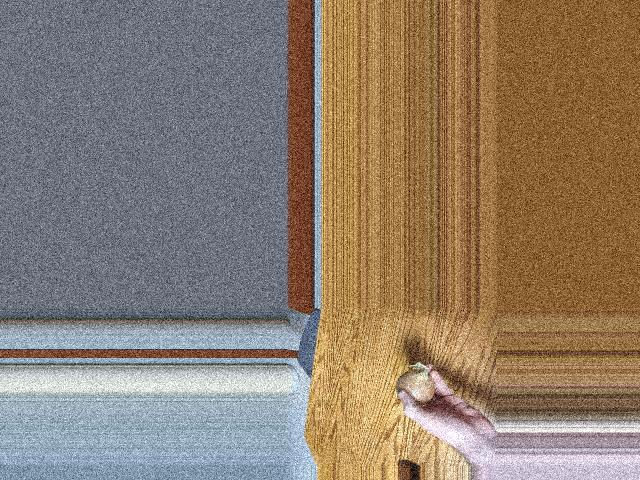onion: (395, 369, 433, 406)
